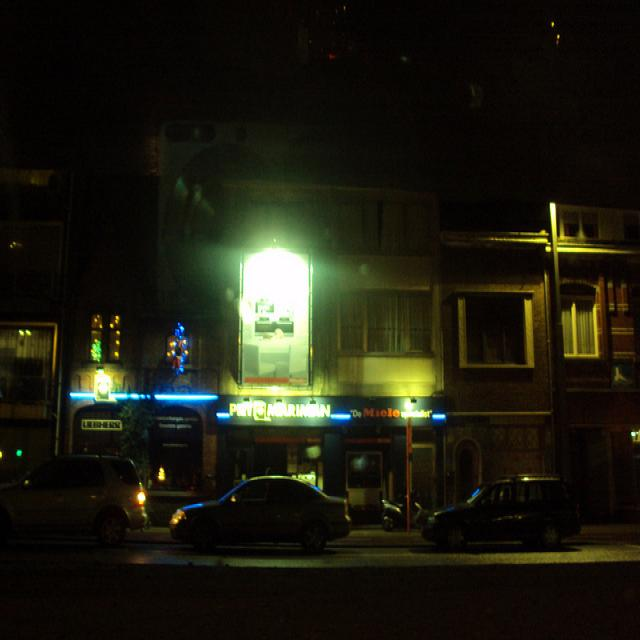Car: (117, 461, 367, 609), (431, 437, 618, 572)
